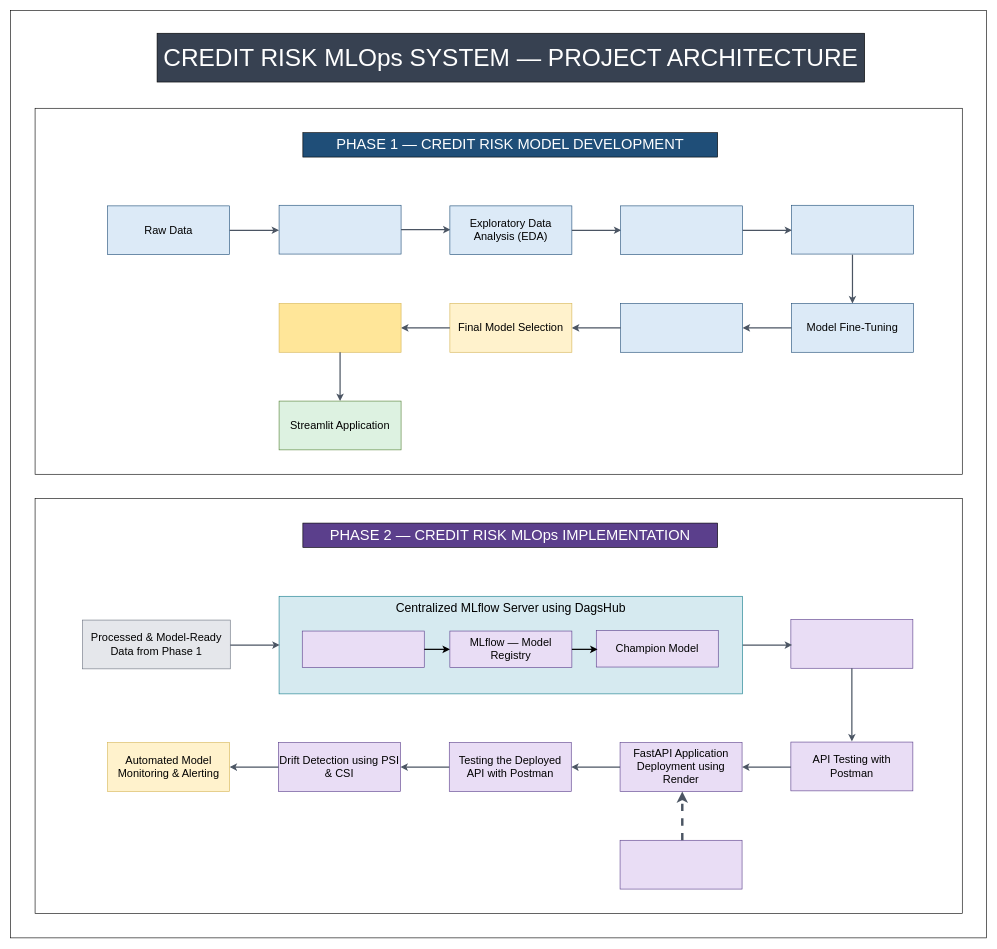
The diagram is 997 pixels wide and 949 high, and some of its shapes have lost their labels. Here are the shapes that lost their labels. From the top down, the box of each, then its label:
(278, 205, 401, 254): Data Cleaning & Preparation
(620, 205, 743, 255): Feature Engineering
(791, 205, 913, 254): Model Training & Evaluation
(278, 303, 401, 352): Final Model & Preprocessing Artifacts
(620, 303, 743, 352): Model Evaluation — KS & Gini
(302, 630, 424, 668): MLflow — Experiment Tracking
(790, 619, 913, 668): FastAPI Model Serving
(619, 840, 742, 889): CI/CD with GitHub Actions
